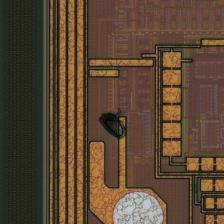PARTICLE: (93, 104, 133, 144)
